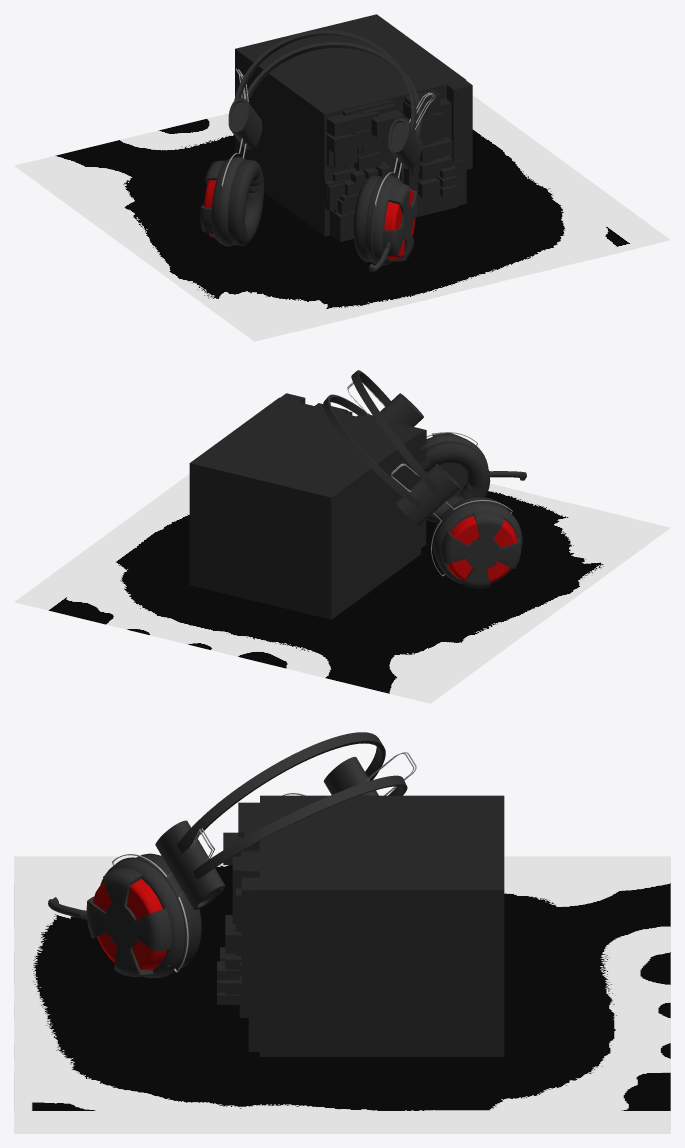
The model's file is Headset.fbx.
The picture shows the model from 3 angles, top to bottom: view 1: azimuth 30°, elevation 25°; view 2: azimuth 150°, elevation 25°; view 3: azimuth 270°, elevation 25°; orthographic projection. The views are drawn at different scales.
Parts seen in each view (by area): view 1: Ground_Plane, Headset_Part_6, Headset_Part_1, Headset_Part_2, Headset_Part_5, Headset_Part_3, Headset_Part_4; view 2: Ground_Plane, Headset_Part_6, Headset_Part_1, Headset_Part_2, Headset_Part_5, Headset_Part_3, Headset_Part_4; view 3: Ground_Plane, Headset_Part_6, Headset_Part_1, Headset_Part_5, Headset_Part_3, Headset_Part_2, Headset_Part_4.
Part boxes in pixels (box(x1,y1,x2,y2)): Ground_Plane: box(14, 95, 670, 341); Headset_Part_6: box(235, 14, 472, 241); Headset_Part_1: box(200, 98, 422, 272); Headset_Part_2: box(227, 159, 381, 261); Headset_Part_5: box(234, 30, 422, 139); Headset_Part_3: box(204, 180, 415, 259); Headset_Part_4: box(221, 68, 435, 206); Ground_Plane: box(14, 474, 670, 703); Headset_Part_6: box(189, 393, 426, 619); Headset_Part_1: box(380, 393, 526, 588); Headset_Part_2: box(421, 441, 510, 553); Headset_Part_5: box(323, 370, 439, 507); Headset_Part_3: box(446, 515, 516, 582); Headset_Part_4: box(347, 382, 512, 576); Ground_Plane: box(14, 856, 670, 1133); Headset_Part_6: box(217, 795, 504, 1056); Headset_Part_1: box(48, 757, 378, 977); Headset_Part_5: box(177, 732, 407, 879); Headset_Part_3: box(92, 878, 166, 970); Headset_Part_2: box(136, 853, 201, 969); Headset_Part_4: box(112, 752, 416, 972).
Size of the model in its own units: 392 by 162 by 392.
